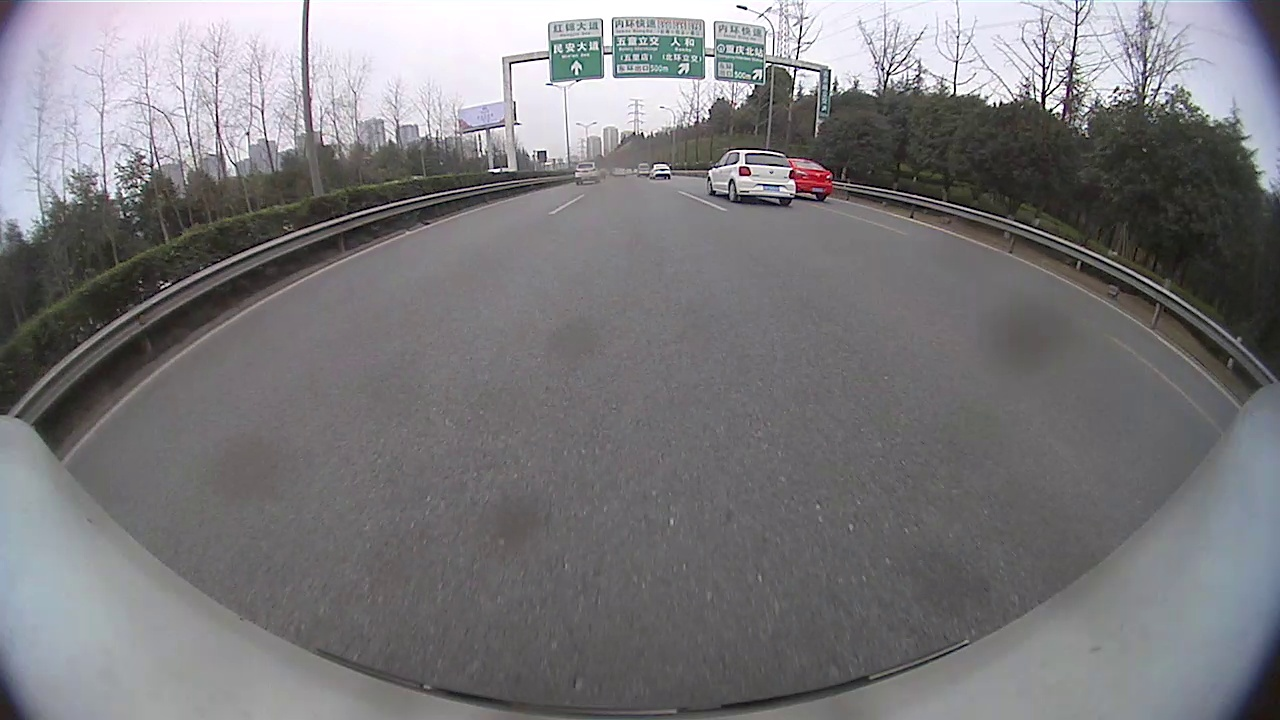car: (706, 146, 797, 207), (786, 159, 835, 204), (575, 161, 601, 185), (648, 162, 671, 181)
rear: (727, 181, 738, 204)
